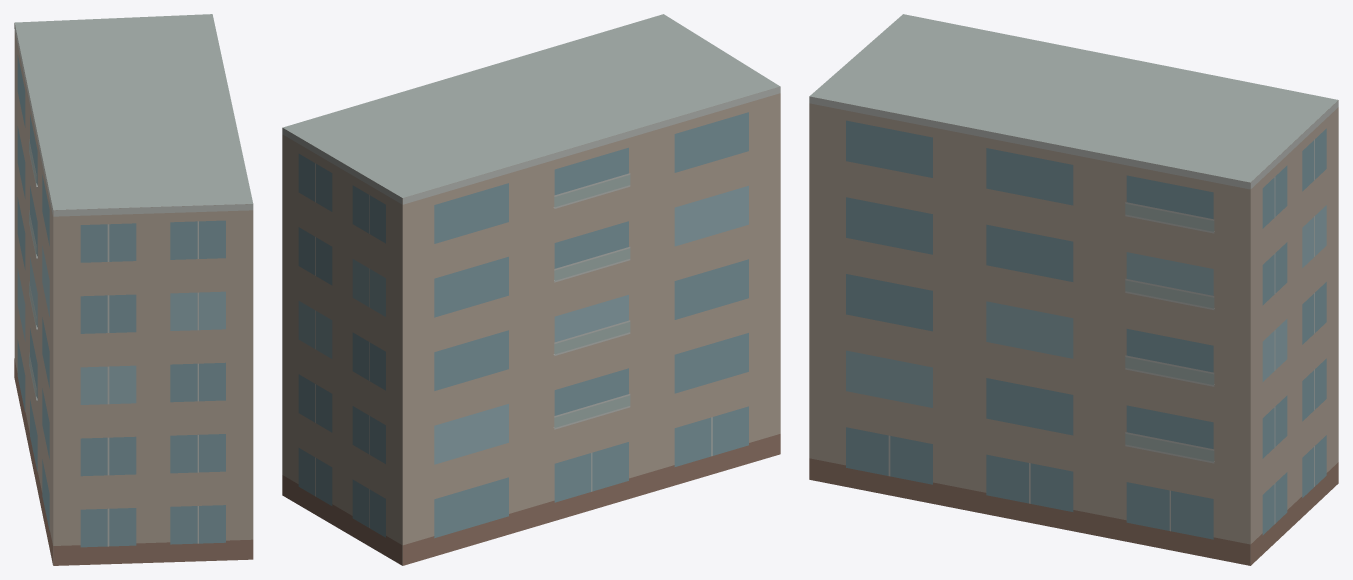
The model's file is survey-upis-32632851.glb.
3 renders of one model, left to right at view 1: azimuth 30°, elevation 25°; view 2: azimuth 150°, elevation 25°; view 3: azimuth 270°, elevation 25°, orthographic. The views are drawn at different scales.
Visible parts, largest first — view 1: survey-upis-32632851.tmp; view 2: survey-upis-32632851.tmp; view 3: survey-upis-32632851.tmp.
Part boxes in pixels (x1,y1,x2,y2): survey-upis-32632851.tmp: [14, 14, 253, 565]; survey-upis-32632851.tmp: [282, 14, 780, 565]; survey-upis-32632851.tmp: [809, 14, 1338, 565].
Bounding box in the file's own units: 12.65 × 13.4 × 16.78.
